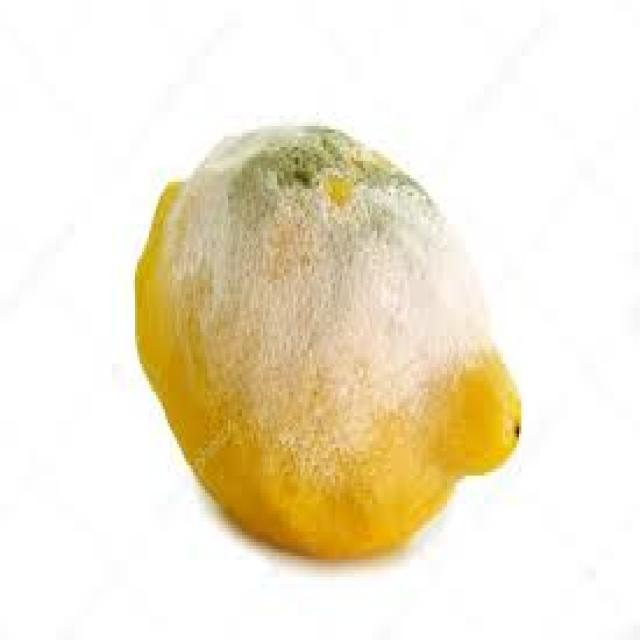Rotten: (132, 119, 523, 560)
